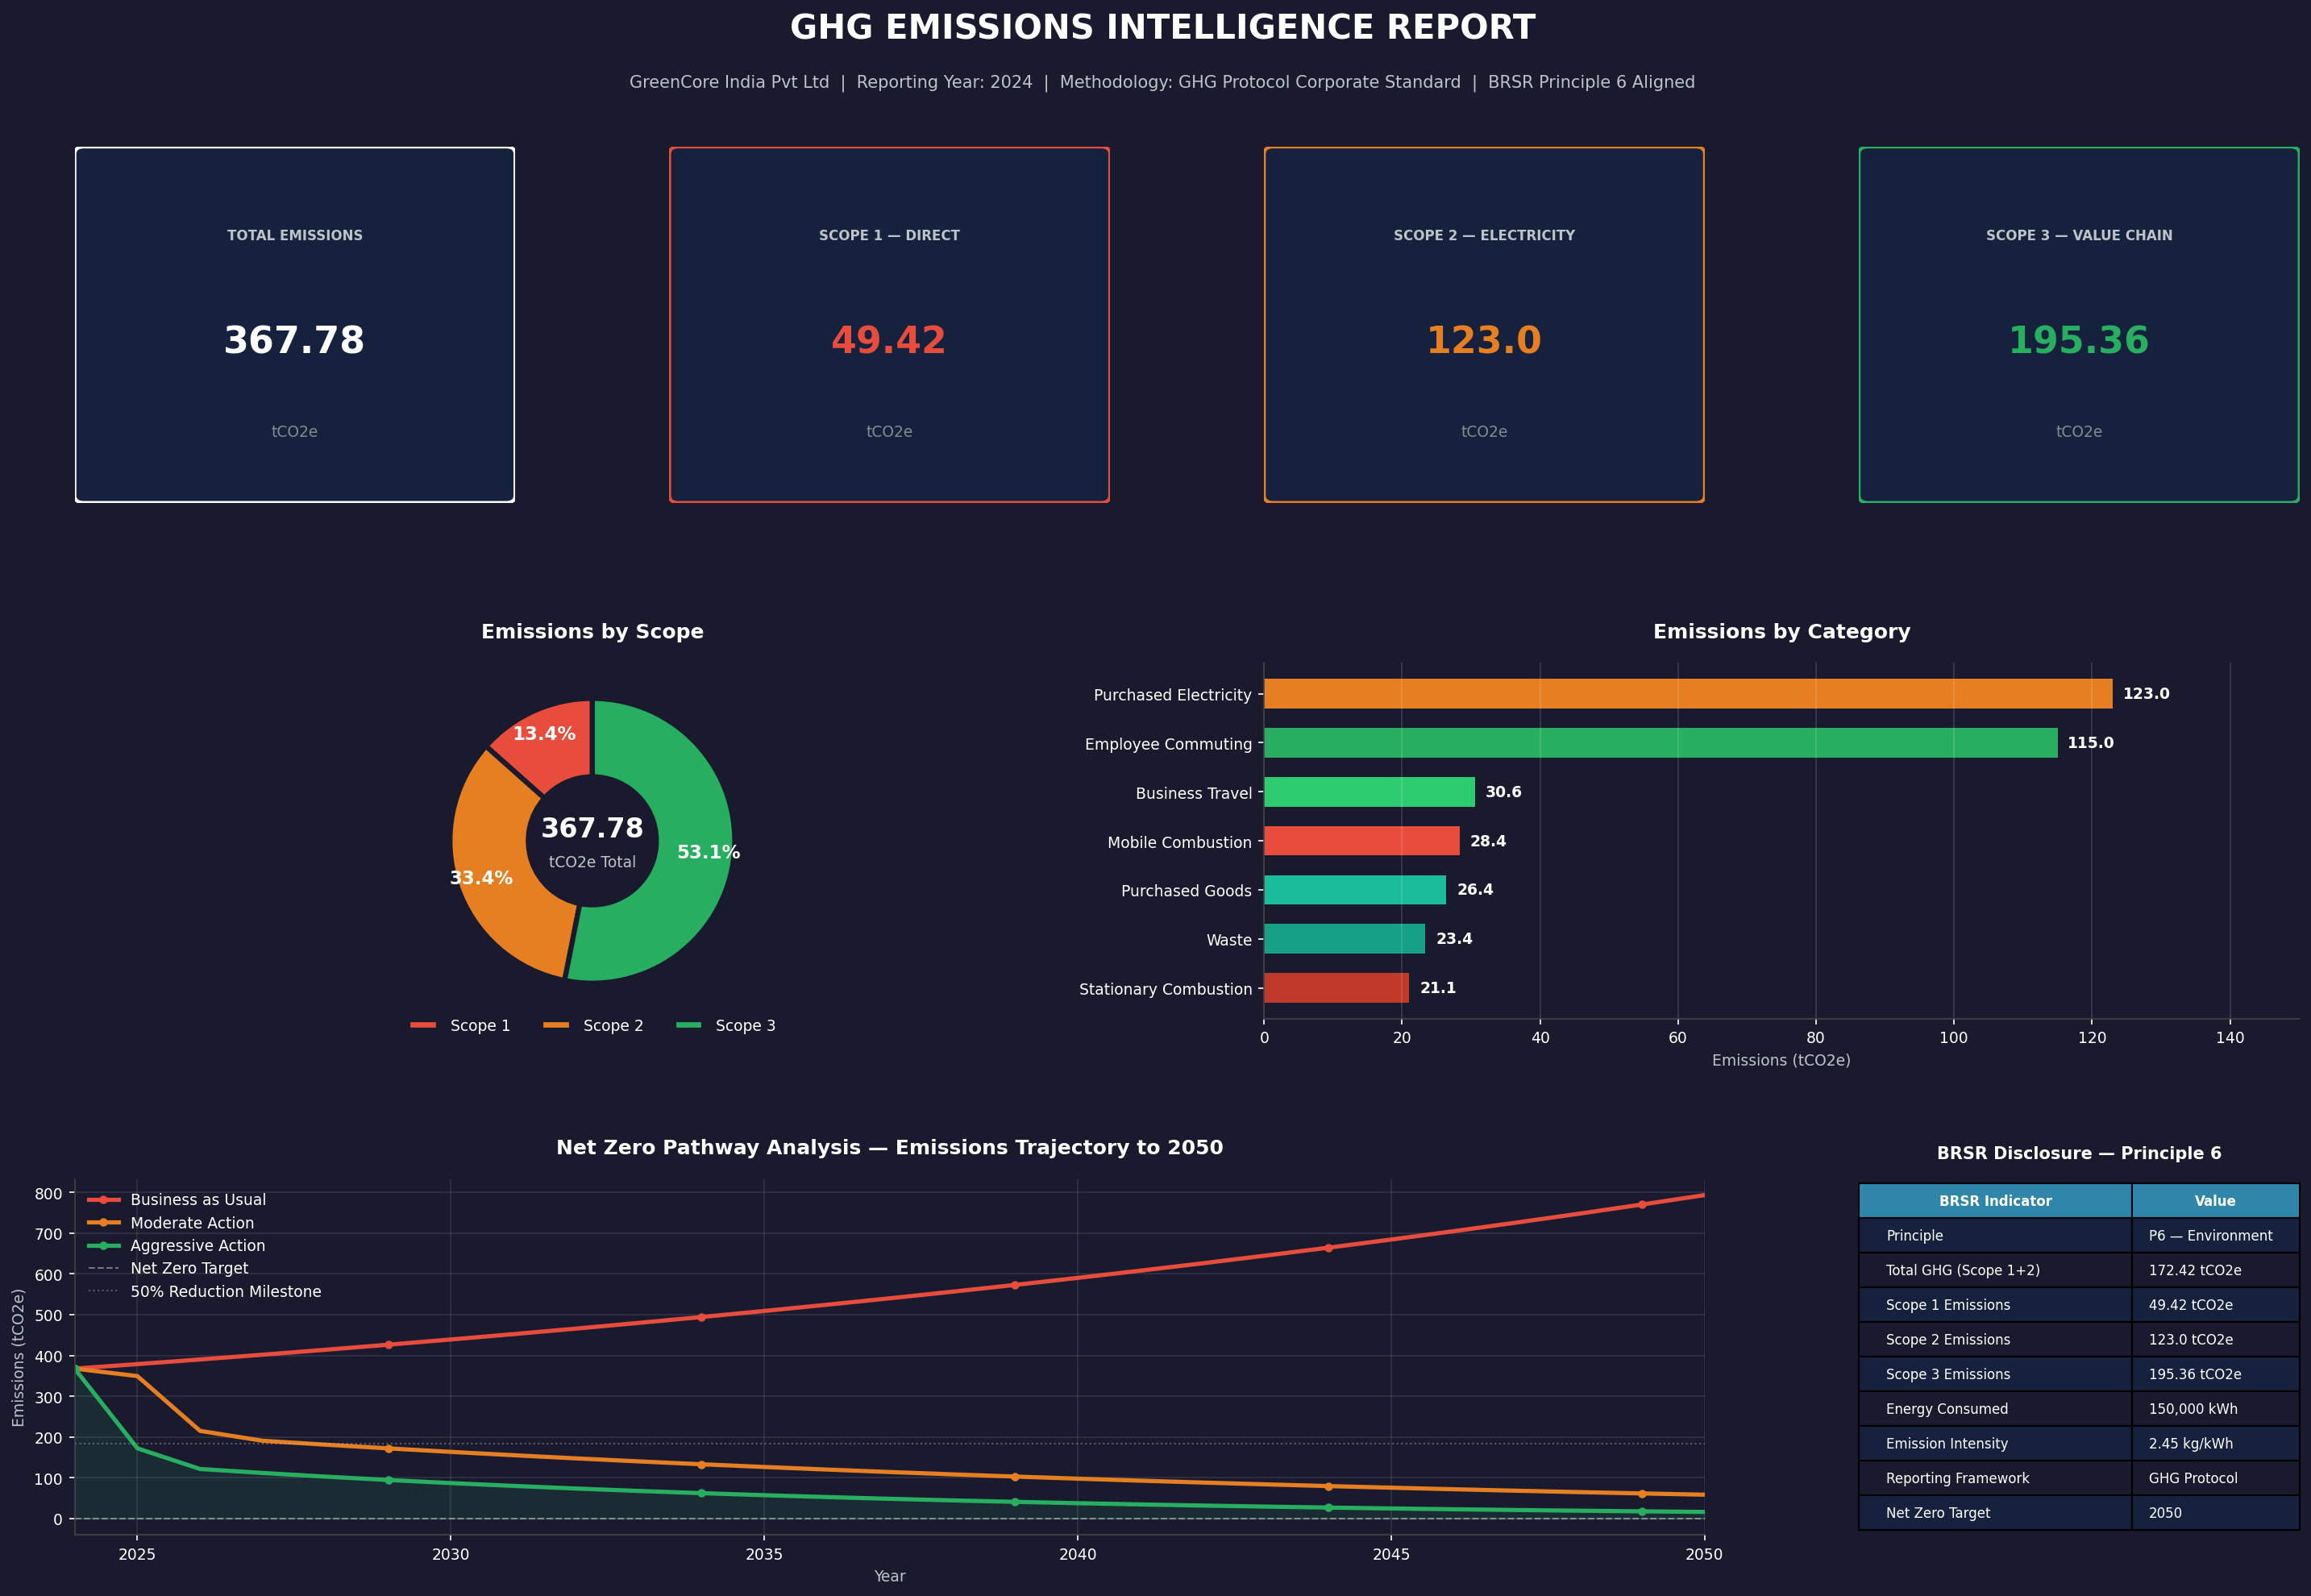

The page's visual inventory and layout, read from the dashboard file:
{"tool":"powerbi","page":{"name":"Page 1","canvas":[1400,900],"ordinal":0},"visuals":[{"type":"textbox","box":[16,0,736,96],"z":0},{"type":"donutChart","title":"Emissions by Scope","fields":{"Category":["ScopeEmissions.Scope"],"Y":["Sum(ScopeEmissions.Emissions_tCO2e)"]},"box":[16,272,368,288],"z":1000},{"type":"clusteredBarChart","title":"Emissions by Category","fields":{"Category":["CategoryEmissions.category"],"Y":["Sum(CategoryEmissions.emissions_tCO2e)"]},"box":[398,272,596.8,288],"z":2000},{"type":"lineChart","title":"Net Zero Pathway Analysis — Emissions Trajectory to 2050","fields":{"Category":["NetZeroTrajectories.Year"],"Y":["Sum(NetZeroTrajectories.Emissions_tCO2e)"],"Series":["NetZeroTrajectories.Scenario"]},"box":[16,648,978,230],"z":3000},{"type":"tableEx","title":"BRSR Disclosure — Principle 6","fields":{"Values":["BRSRDisclosure.Indicator","BRSRDisclosure.Value"]},"box":[1008.3,271.7,368.3,400],"z":4000},{"type":"slicer","title":"Filter Scenario","fields":{"Values":["NetZeroTrajectories.Scenario"]},"box":[994,686,382,192],"z":5000},{"type":"cardVisual","fields":{"Data":["Sum(KPISummary.Value_Numeric)"],"Rows":["KPISummary.Metric"]},"box":[368.3,96.7,320,160],"z":6000},{"type":"cardVisual","fields":{"Data":["Sum(KPISummary.Value_Numeric)"],"Rows":["KPISummary.Metric"]},"box":[1056,96,320,160],"z":7000},{"type":"cardVisual","fields":{"Data":["Sum(KPISummary.Value_Numeric)"],"Rows":["KPISummary.Metric"]},"box":[715.3,96.3,320,160],"z":8000},{"type":"cardVisual","fields":{"Data":["Sum(KPISummary.Value_Numeric)"],"Rows":["KPISummary.Metric"]},"box":[16,96,320,160],"z":9000},{"type":"textbox","box":[114.3,387.7,95,80],"z":10000},{"type":"slicer","title":"Filter Scenario","fields":{"Values":["ScopeEmissions.Year"]},"box":[16,574,978,74],"z":11000},{"type":"shape","box":[1.2,115,1398.8,301.2],"z":11001}]}

Visuals, with their boxes on the page's 1400x900 design canvas (x1, y1, x2, y2). These are canvas units, not pixel positions in the 2311x1596 screenshot, which may show the page scaled, cropped or inside an application window:
textbox: detection(16, 0, 752, 96)
"Emissions by Scope" donutChart: detection(16, 272, 384, 560)
"Emissions by Category" clusteredBarChart: detection(398, 272, 995, 560)
"Net Zero Pathway Analysis — Emissions Trajectory to 2050" lineChart: detection(16, 648, 994, 878)
"BRSR Disclosure — Principle 6" tableEx: detection(1008, 272, 1377, 672)
"Filter Scenario" slicer: detection(994, 686, 1376, 878)
cardVisual - Sum(KPISummary.Value_Numeric) x KPISummary.Metric: detection(368, 97, 688, 257)
cardVisual - Sum(KPISummary.Value_Numeric) x KPISummary.Metric: detection(1056, 96, 1376, 256)
cardVisual - Sum(KPISummary.Value_Numeric) x KPISummary.Metric: detection(715, 96, 1035, 256)
cardVisual - Sum(KPISummary.Value_Numeric) x KPISummary.Metric: detection(16, 96, 336, 256)
textbox: detection(114, 388, 209, 468)
"Filter Scenario" slicer: detection(16, 574, 994, 648)
shape: detection(1, 115, 1400, 416)
